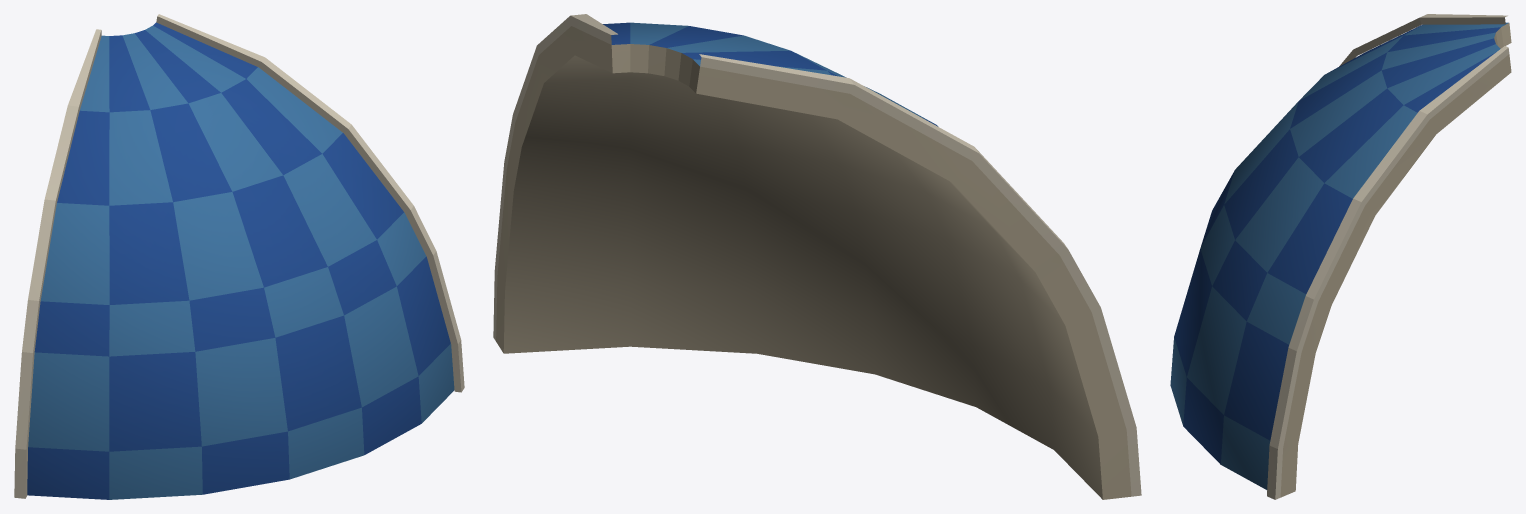
Rendered from dome.panel_4.blue.glb.
The picture shows the model from 3 angles, left to right: view 1: azimuth 30°, elevation 25°; view 2: azimuth 150°, elevation 25°; view 3: azimuth 270°, elevation 25°; orthographic projection. The views are drawn at different scales.
Visible parts, largest first — view 1: dome_panel_4_blue; view 2: dome_panel_4_blue; view 3: dome_panel_4_blue.
Part boxes in pixels (x1=…): dome_panel_4_blue: x1=14, y1=14, x2=464, y2=499; dome_panel_4_blue: x1=493, y1=14, x2=1141, y2=499; dome_panel_4_blue: x1=1170, y1=14, x2=1511, y2=499.
Size of what is drawn, in the model's own units: 5.05 by 3.63 by 3.18.
